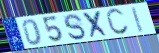0: (21, 18, 43, 46)
5: (41, 14, 64, 44)
C: (105, 7, 131, 37)
I: (131, 5, 145, 33)
S: (62, 13, 87, 41)
X: (81, 9, 111, 40)
